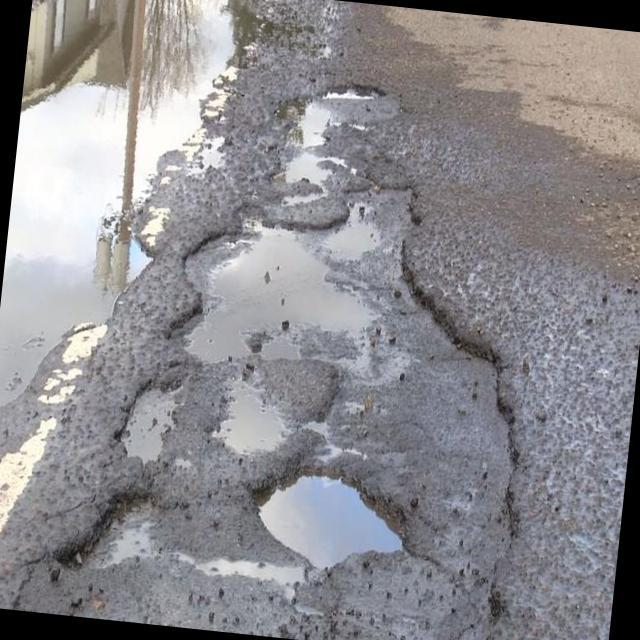Pothole: (186, 209, 419, 471), (174, 472, 402, 600), (285, 93, 363, 181), (94, 507, 169, 568), (123, 388, 179, 461)
